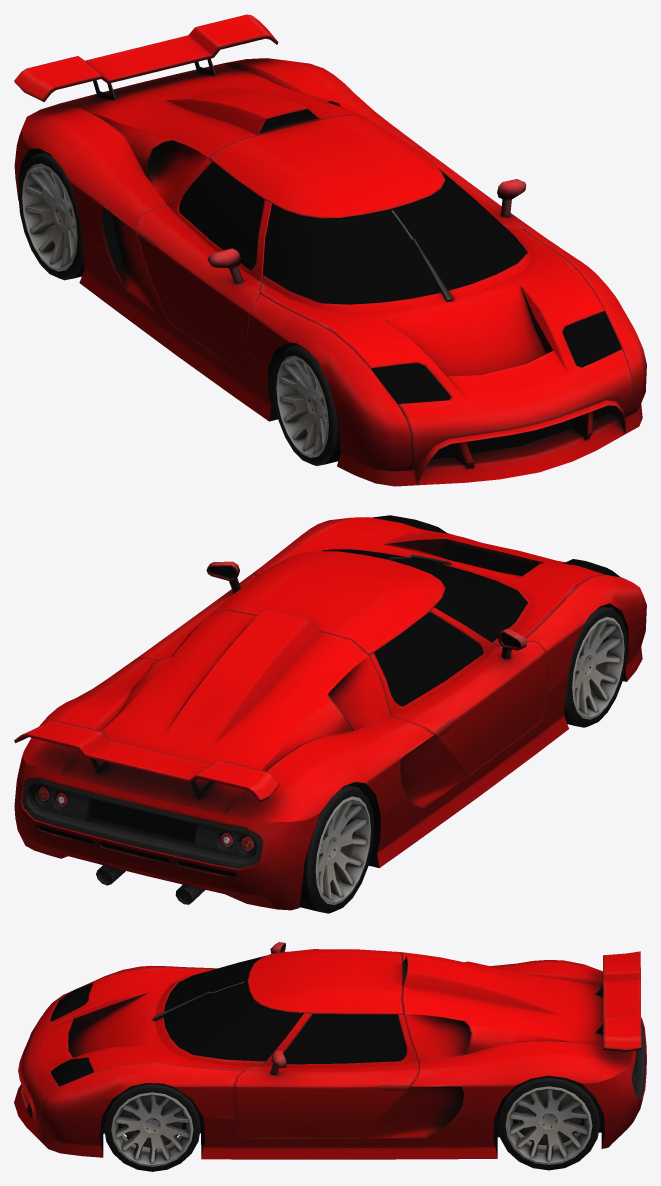
Rendered from sport_red.glb.
3 renders of one model, top to bottom at view 1: azimuth 30°, elevation 25°; view 2: azimuth 150°, elevation 25°; view 3: azimuth 270°, elevation 25°, orthographic. The views are drawn at different scales.
Visible parts, largest first — view 1: sport body, Rear Right Wheel, Front Right Wheel; view 2: sport body, Rear Right Wheel, Front Right Wheel; view 3: sport body, Rear Left Wheel, Front Left Wheel.
Boxes of the visible parts, box(x1,y1,x2,y2) form: sport body: box(14, 14, 646, 486); Rear Right Wheel: box(18, 152, 84, 280); Front Right Wheel: box(273, 344, 340, 465); sport body: box(14, 515, 646, 910); Rear Right Wheel: box(299, 785, 374, 913); Front Right Wheel: box(564, 606, 627, 727); sport body: box(14, 942, 646, 1159); Rear Left Wheel: box(497, 1075, 600, 1170); Front Left Wheel: box(104, 1083, 200, 1171).
Bounding box in the file's own units: 1.77 × 1.04 × 3.91.
1 material, 1 textured.
